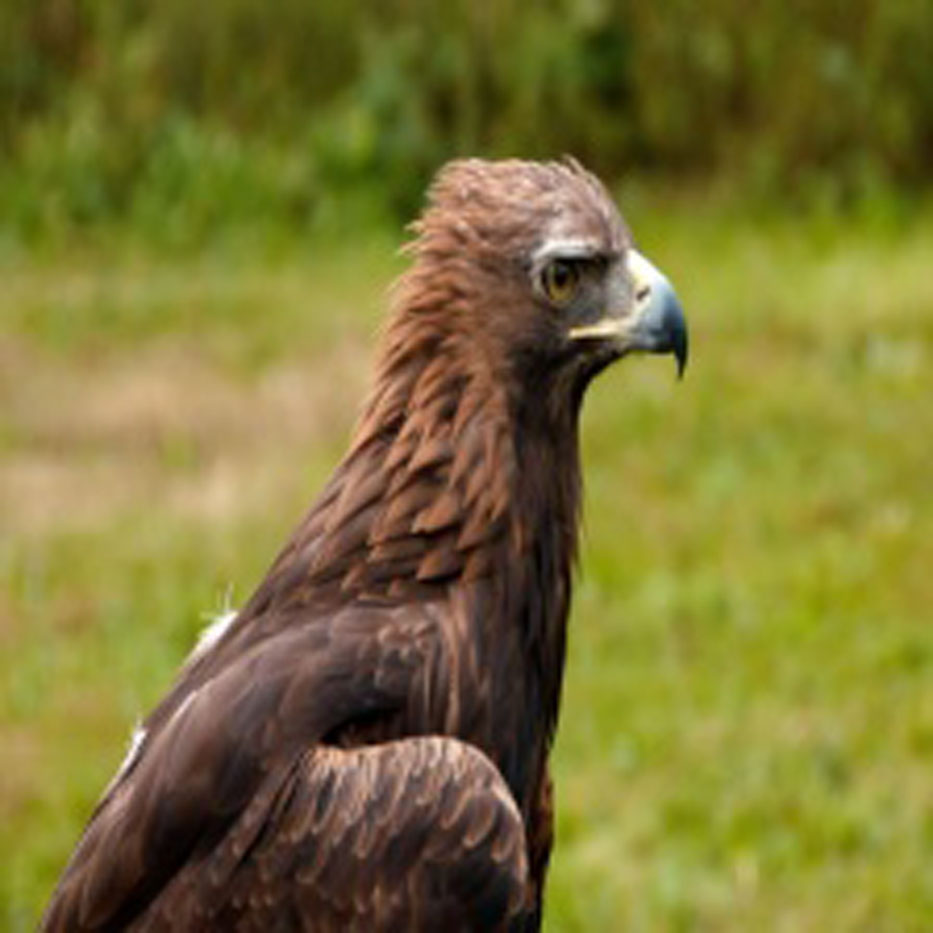Pengoyak Daging: (620, 251, 709, 384)
